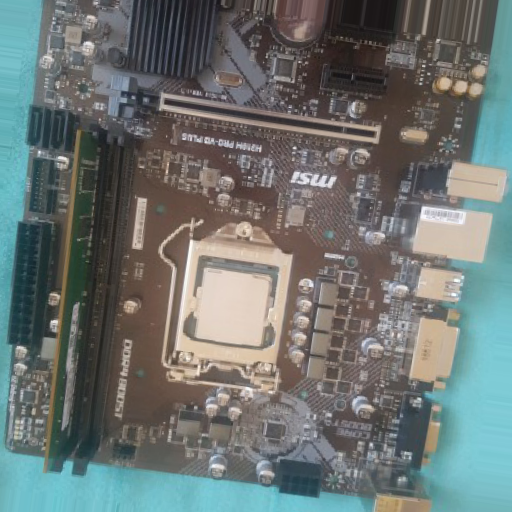CPU: (167, 223, 294, 395)
GPU: (109, 76, 382, 146)
MOTHERBOARD: (1, 14, 492, 498)
RAM: (45, 123, 138, 476)
